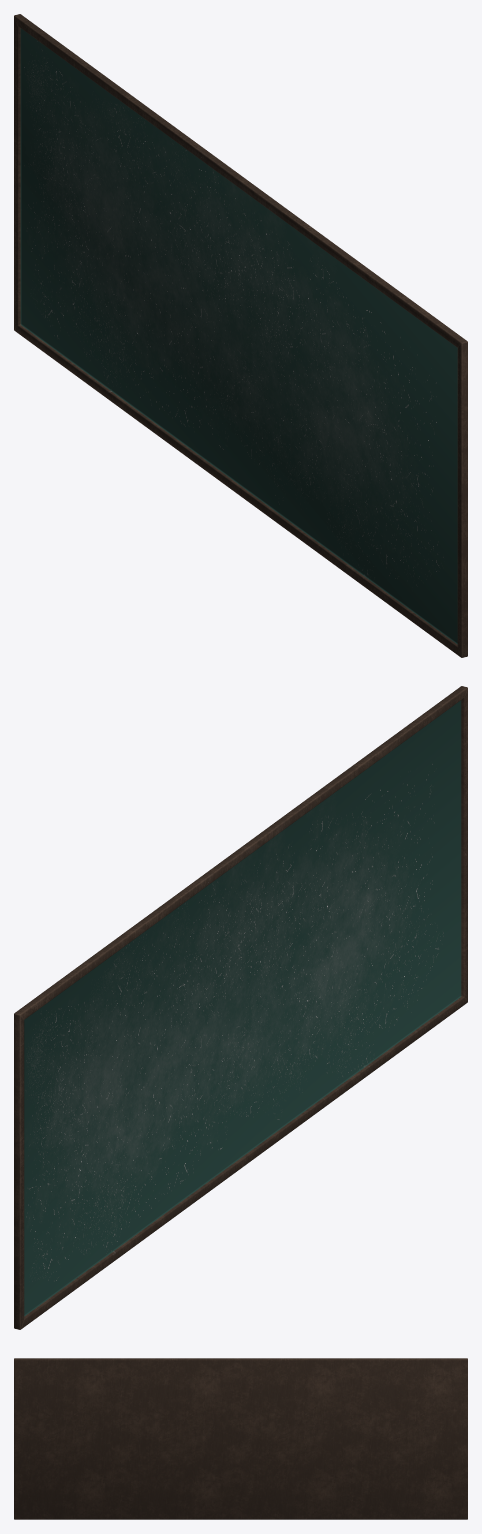
3 views of the same model, one above another, from view 1: azimuth 30°, elevation 25°; view 2: azimuth 150°, elevation 25°; view 3: azimuth 270°, elevation 25° (orthographic). The views are drawn at different scales.
Visible parts, largest first — view 1: board; view 2: board; view 3: board.
Part boxes in pixels (x1,y1,x2,y2): board: (14, 14, 467, 657); board: (14, 686, 467, 1329); board: (14, 1358, 467, 1519).
Size of the model in its own units: 0.0228 by 1 by 2.57.
Materials: 1 (1 with a texture image).
